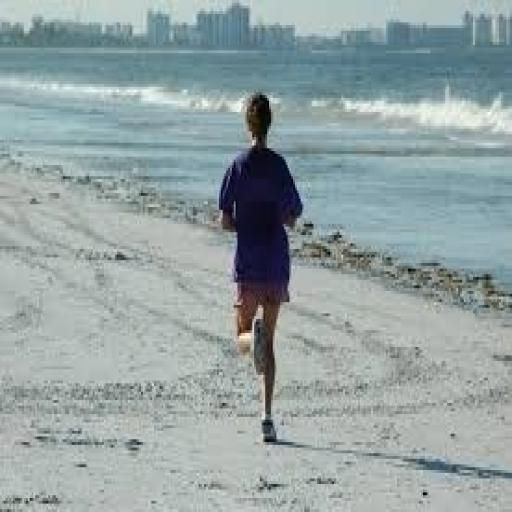running: (215, 89, 306, 445)
